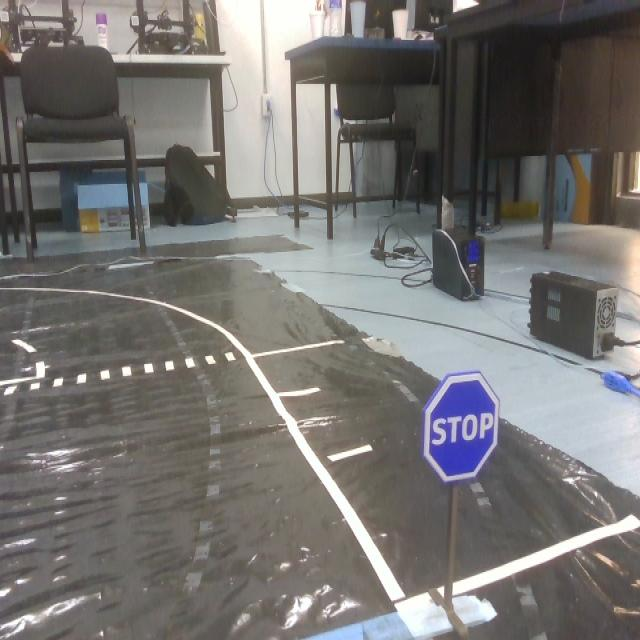no_entry: (422, 374, 499, 489)
